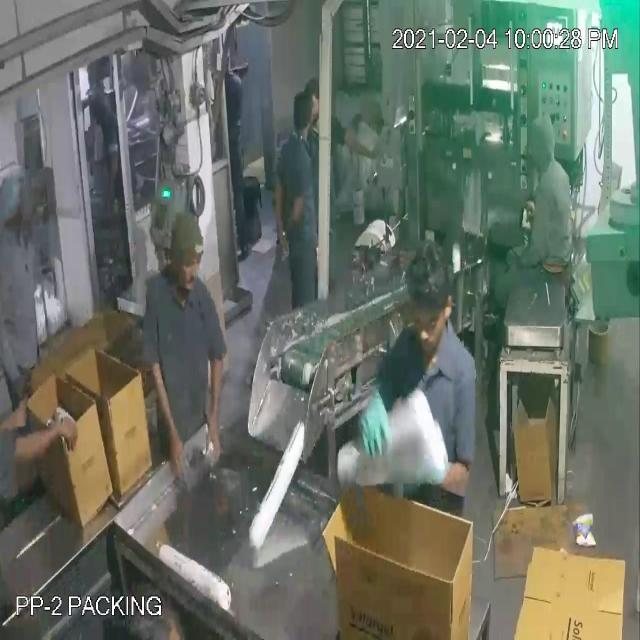gloves: (352, 380, 400, 471)
no-gloves: (138, 332, 186, 478), (200, 317, 230, 479), (11, 417, 88, 475), (335, 122, 397, 164), (268, 170, 290, 268), (1, 395, 36, 448)
